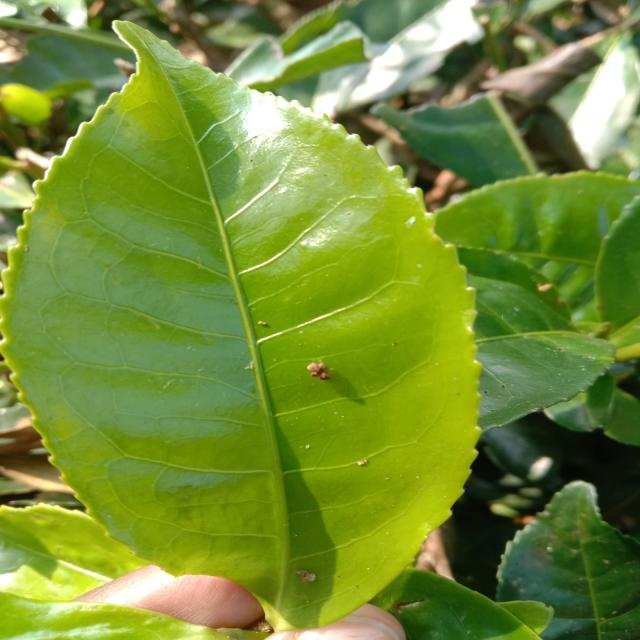Category B(2-4 days): (1, 6, 492, 626)
